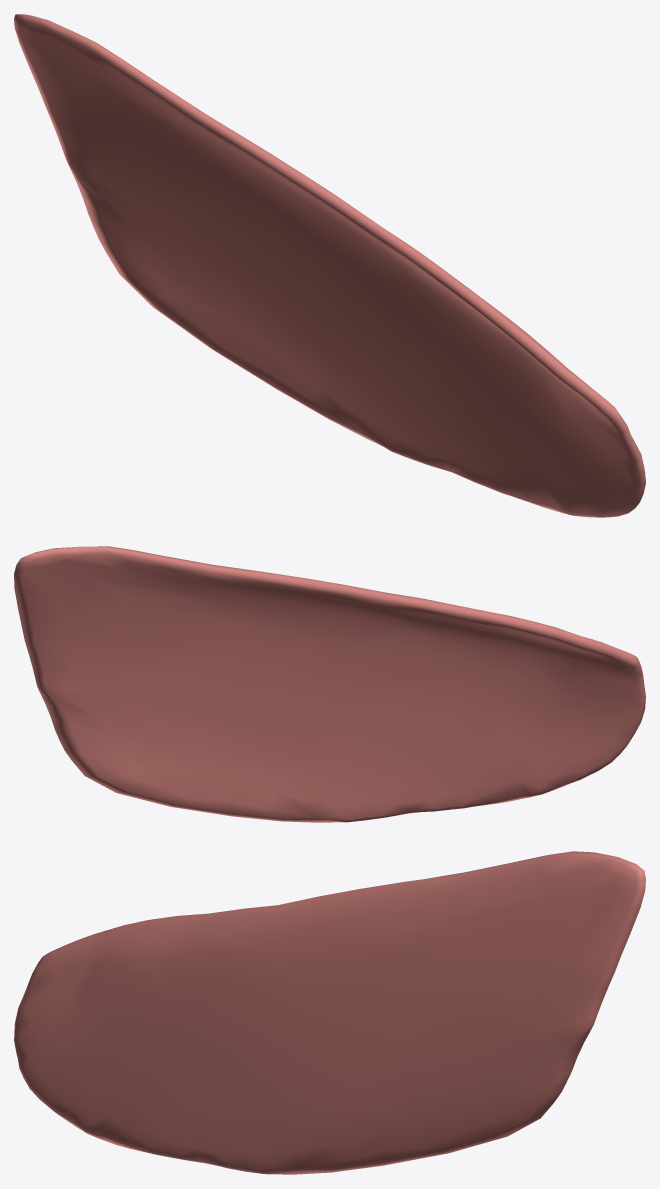
3 renders of one model, top to bottom at view 1: azimuth 90°, elevation 25°; view 2: azimuth 150°, elevation 25°; view 3: azimuth 270°, elevation 25°, orthographic.
Visible parts, largest first — view 1: ZA_8be51c3f9351e015; view 2: ZA_8be51c3f9351e015; view 3: ZA_8be51c3f9351e015.
Boxes of the visible parts, box(x1,y1,x2,y2) form: ZA_8be51c3f9351e015: box(14, 14, 645, 517); ZA_8be51c3f9351e015: box(14, 546, 645, 822); ZA_8be51c3f9351e015: box(14, 851, 645, 1174).
Size of the model in its own units: 0.0143 by 0.0159 by 0.0234.
